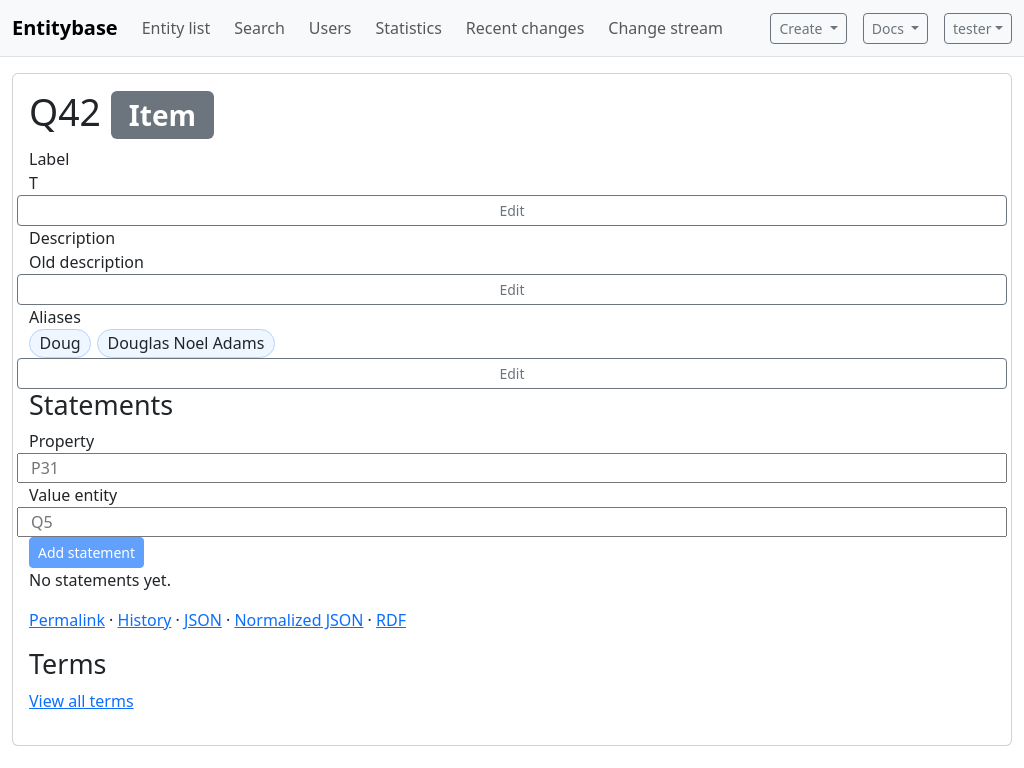
App › edits aliases: enter commits slugs, x removes them, save persists
Expected: the number of elements with test id "item-alias" is 2, x1=29 y1=329 x2=91 y2=358; x1=97 y1=329 x2=275 y2=358
Click the button with test id "edit-aliases-button": (512, 374) x1=17 y1=358 x2=1007 y2=389
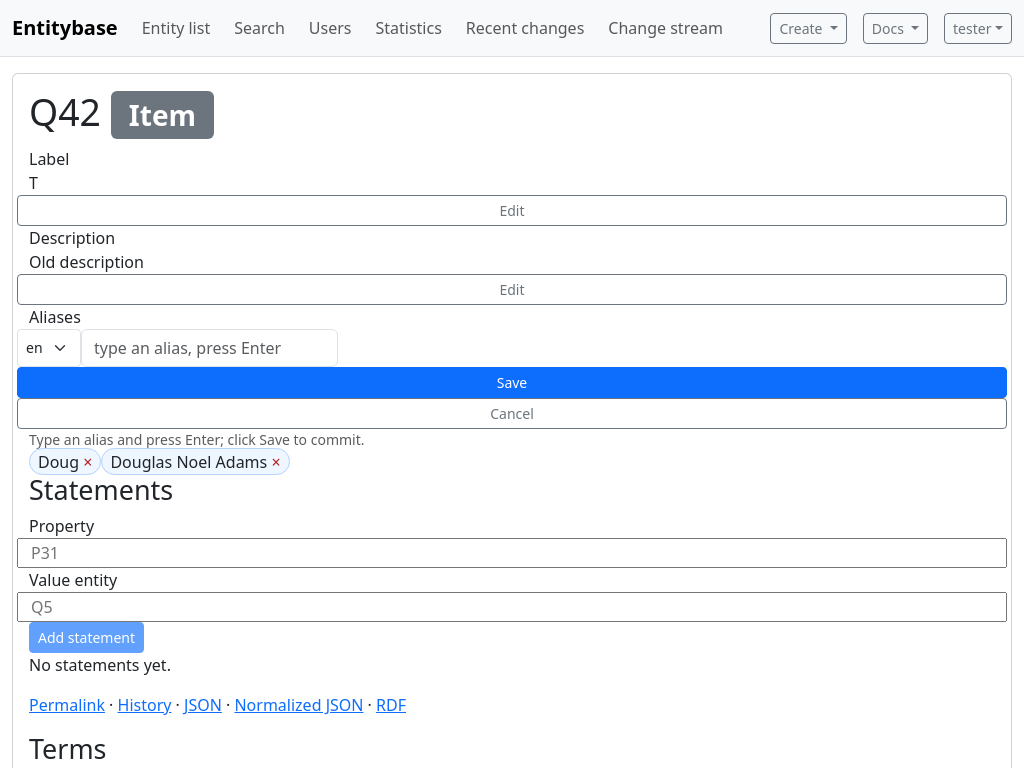
Result: the field with test id "aliases-edit-input" is empty
# Enter commits a slug and clears the input
In the field with test id "aliases-edit-input": (210, 348) x1=81 y1=329 x2=338 y2=367, type "DNA"
Press Enter in the field with test id "aliases-edit-input", box x1=81 y1=329 x2=338 y2=367
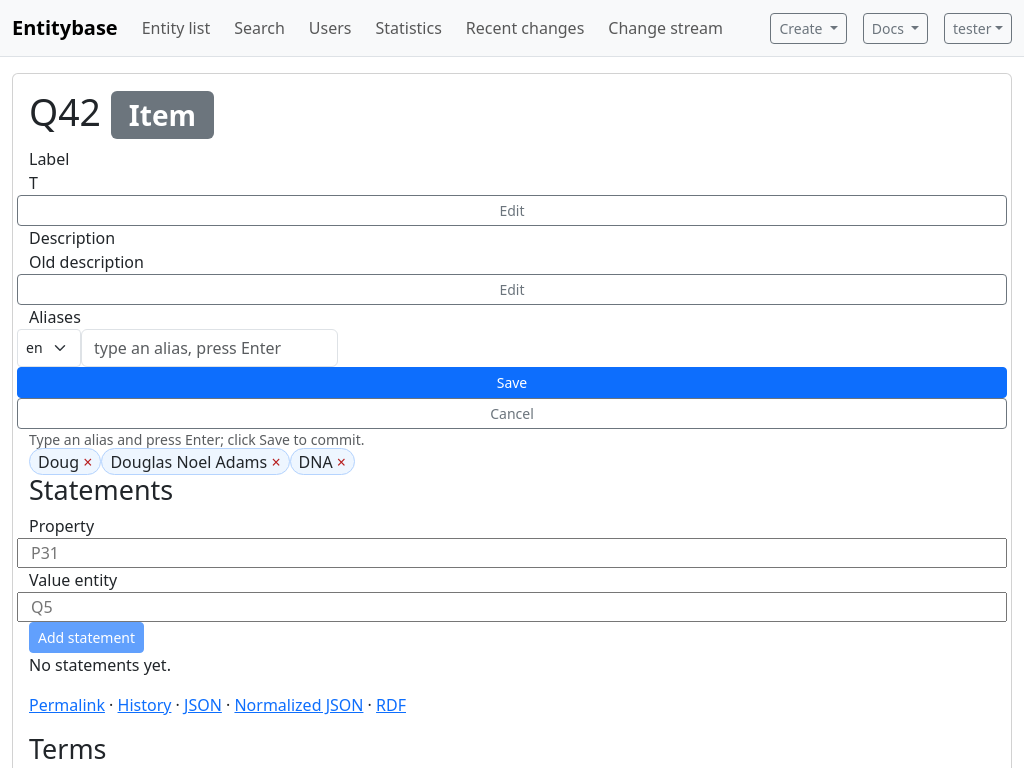
Result: the field with test id "aliases-edit-input" is empty
# Duplicate (case-insensitive) is not added again
In the field with test id "aliases-edit-input": (210, 348) x1=81 y1=329 x2=338 y2=367, type "dna"
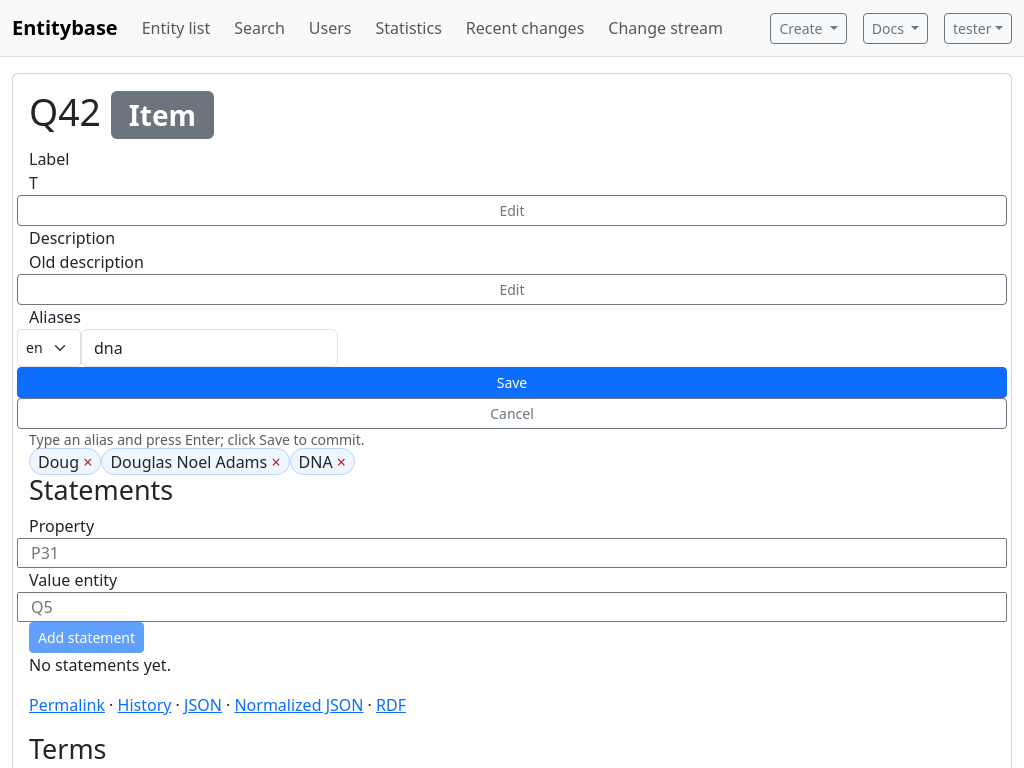
Press Enter in the field with test id "aliases-edit-input", box x1=81 y1=329 x2=338 y2=367
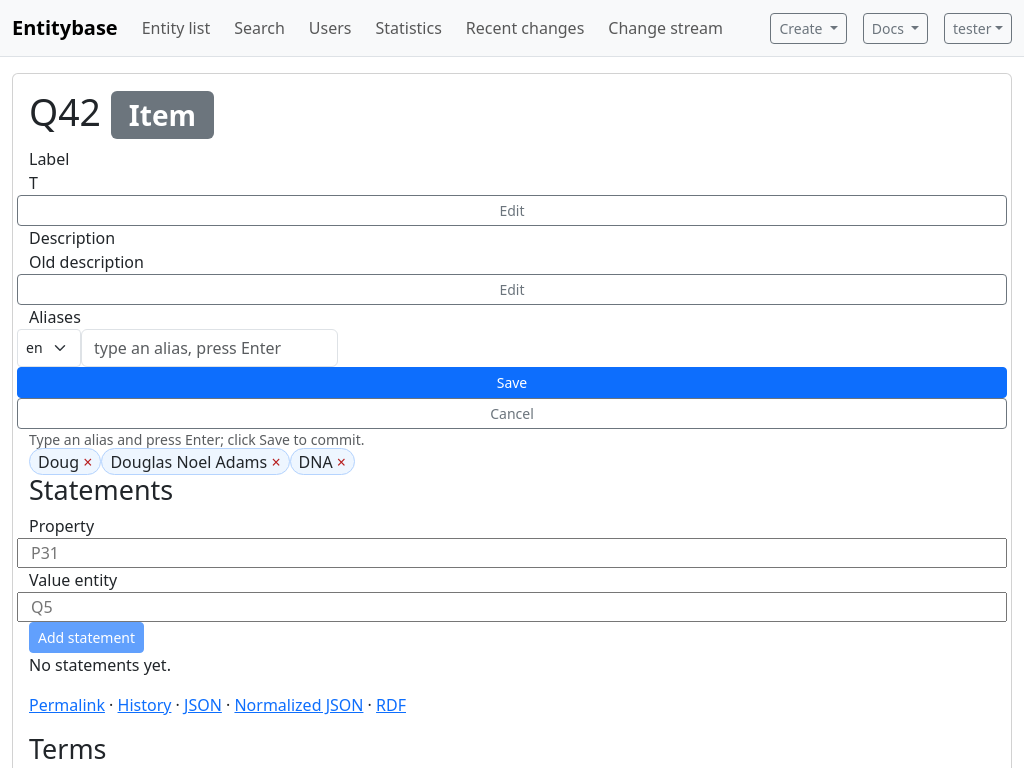
# x removes a committed slug
Click the button with test id "alias-remove-Douglas Noel Adams": (276, 462) x1=271 y1=450 x2=281 y2=474
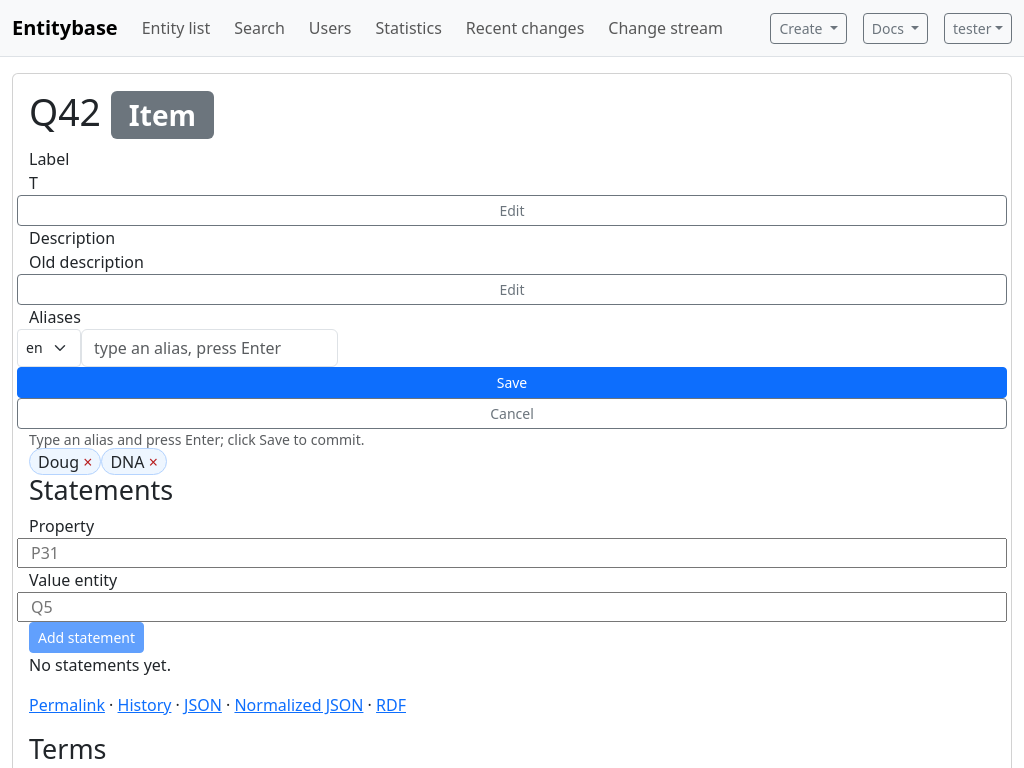
# Save persists the committed slugs
Click the button with test id "save-aliases-button": (512, 382) x1=17 y1=367 x2=1007 y2=398
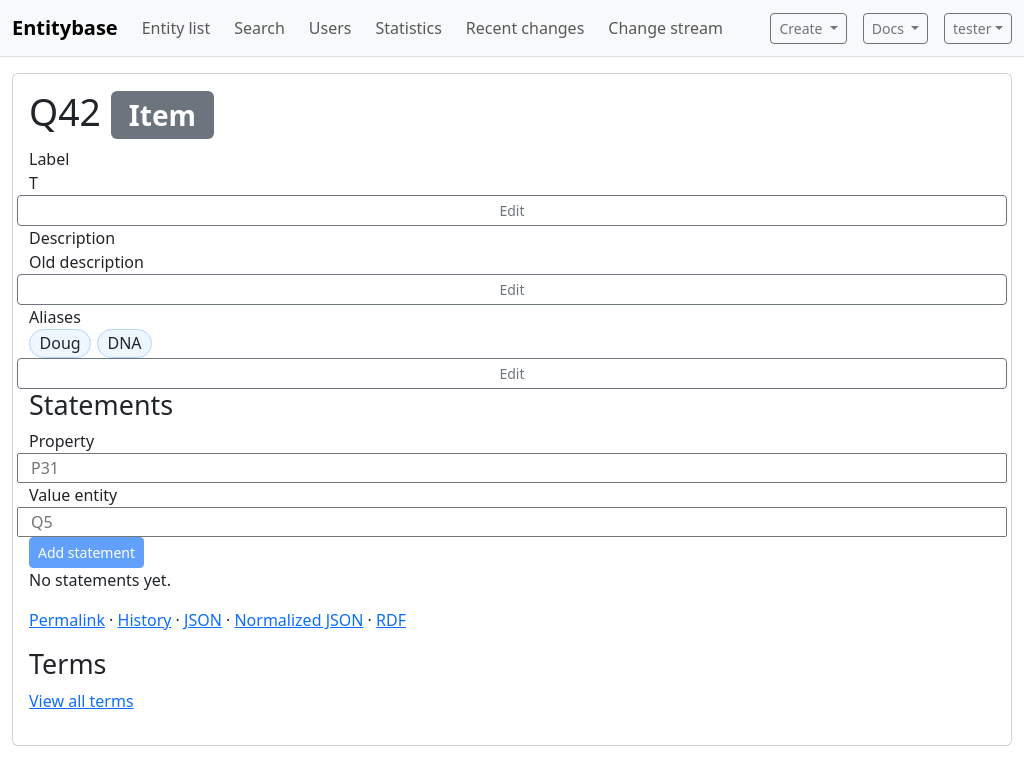
Result: the number of elements with test id "item-alias" is 2 at x1=29 y1=329 x2=91 y2=358; x1=97 y1=329 x2=152 y2=358
